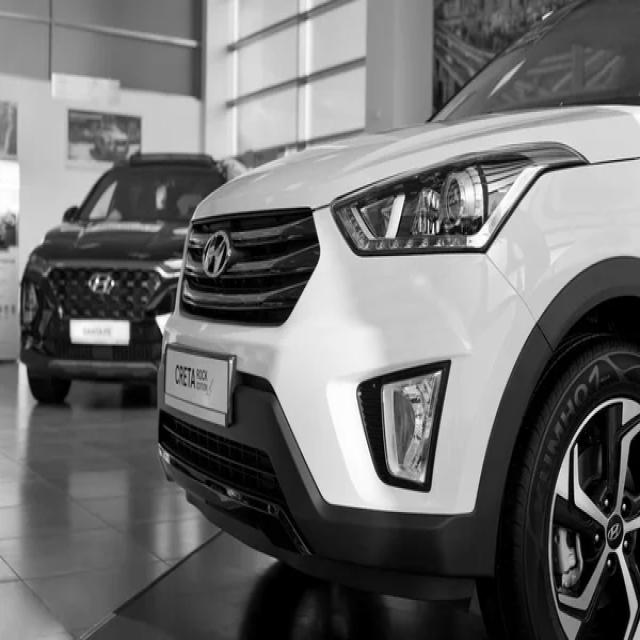Car: (159, 0, 640, 639), (20, 154, 223, 402)
